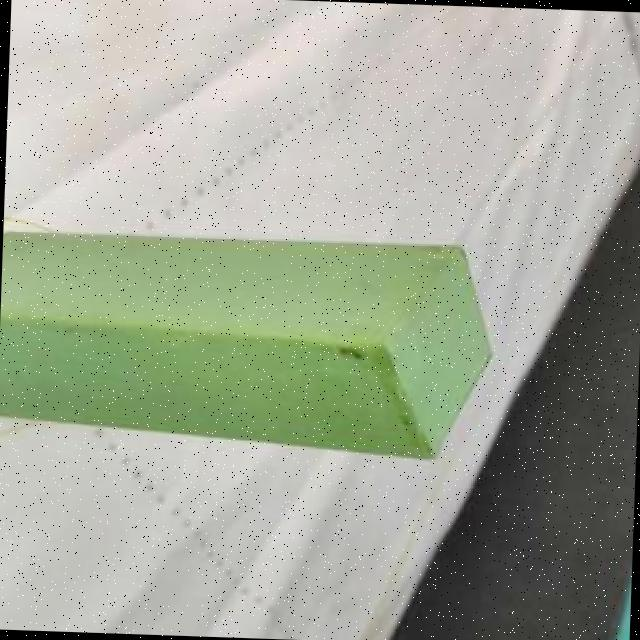greenbox: (0, 224, 499, 466)
